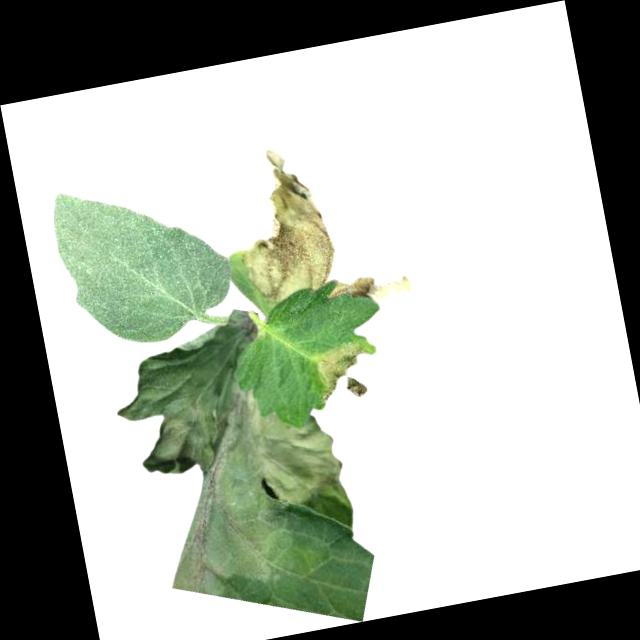Late_blight: (102, 298, 364, 615), (219, 140, 340, 303), (309, 337, 378, 407), (326, 266, 413, 311)
healthy: (46, 167, 240, 357)
